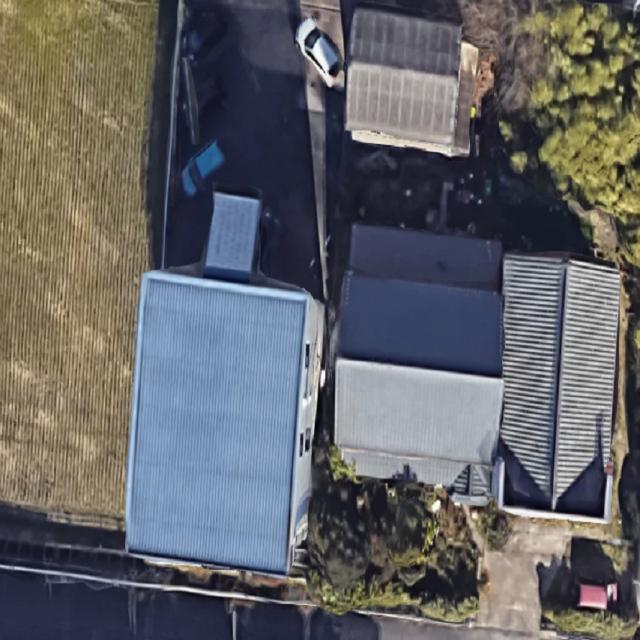Batiment: (126, 187, 324, 573), (335, 225, 504, 503), (500, 254, 620, 513), (345, 7, 461, 146)
